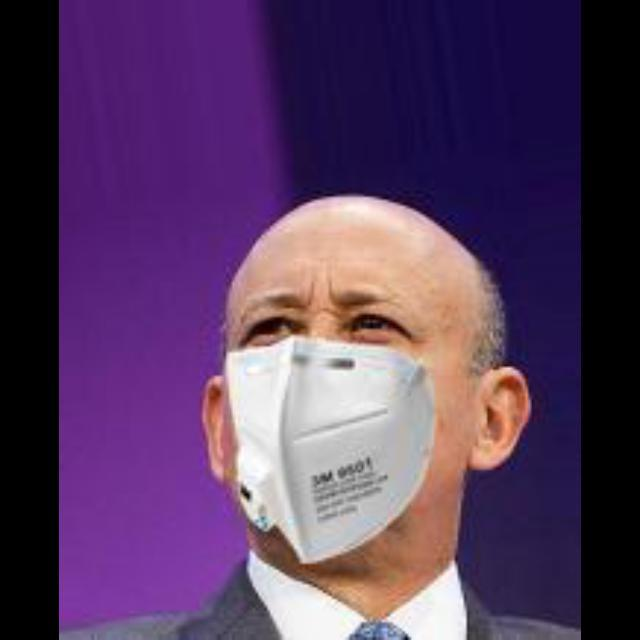suspicion: (134, 150, 574, 622)
